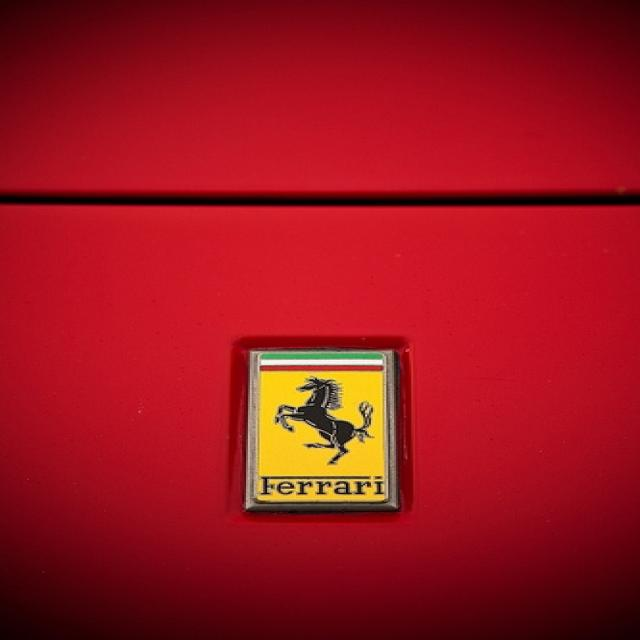ferrari: (251, 353, 393, 505)
